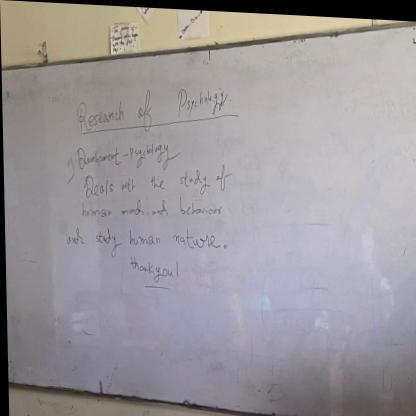Handwritten text: (69, 79, 236, 138), (80, 159, 232, 200), (62, 222, 220, 256), (71, 132, 179, 177), (74, 194, 228, 223), (124, 254, 174, 285)
Whiteboard: (1, 17, 416, 416)
